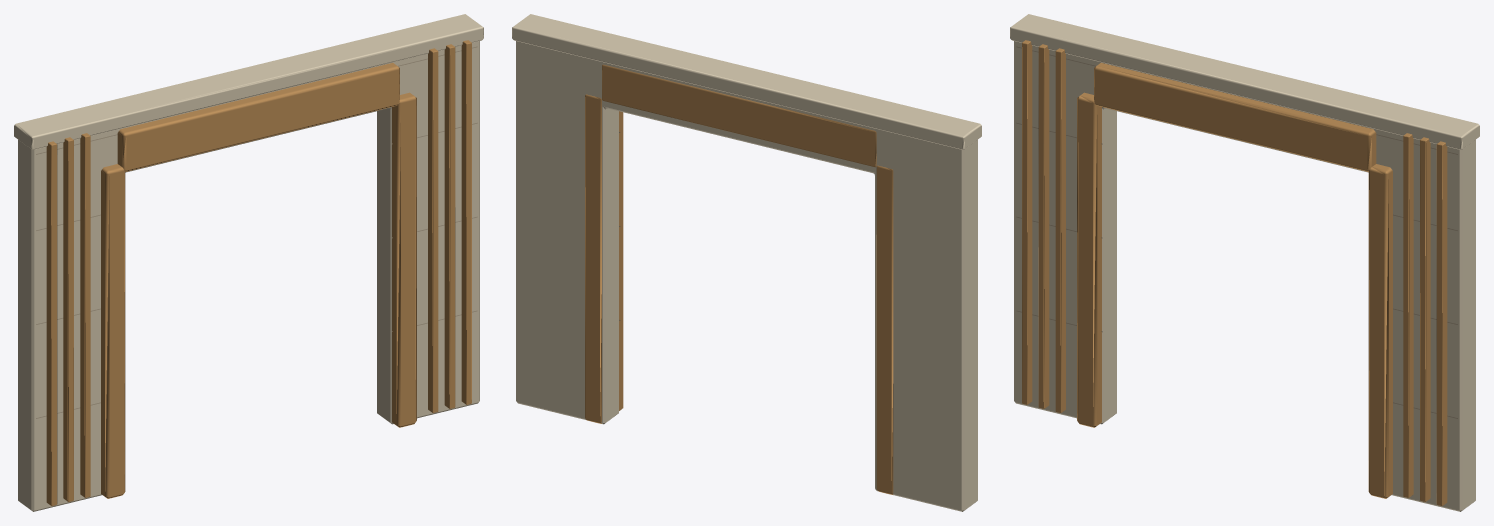
The model's file is wall-partition.fbx.
3 views of the same model, side by side, from view 1: azimuth 30°, elevation 25°; view 2: azimuth 150°, elevation 25°; view 3: azimuth 330°, elevation 25° (orthographic).
Visible parts, largest first — view 1: wall-partition; view 2: wall-partition; view 3: wall-partition.
Boxes of the visible parts, x1,y1,x2,y2 form: wall-partition: (14, 14, 483, 511); wall-partition: (512, 14, 981, 511); wall-partition: (1010, 14, 1479, 511).
Bounding box in the file's own units: 404 × 322 × 35.5.
